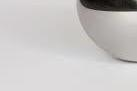ironball: (70, 0, 136, 67)
